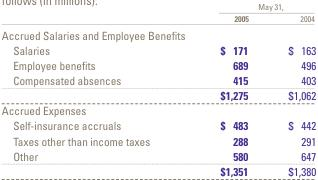table: (0, 1, 315, 177)
table column: (0, 1, 184, 177), (184, 1, 267, 177), (267, 1, 315, 177)
table column header: (0, 1, 315, 24)
table projected row header: (0, 24, 315, 41), (0, 102, 315, 117)
table row: (0, 24, 315, 41), (0, 56, 315, 72), (0, 41, 315, 56), (0, 72, 315, 87), (0, 87, 315, 102), (0, 102, 315, 117), (0, 117, 315, 132), (0, 132, 315, 147), (0, 147, 315, 162), (0, 162, 315, 177), (0, 11, 315, 24), (0, 1, 315, 11)
table spanning cell: (184, 1, 315, 11)
